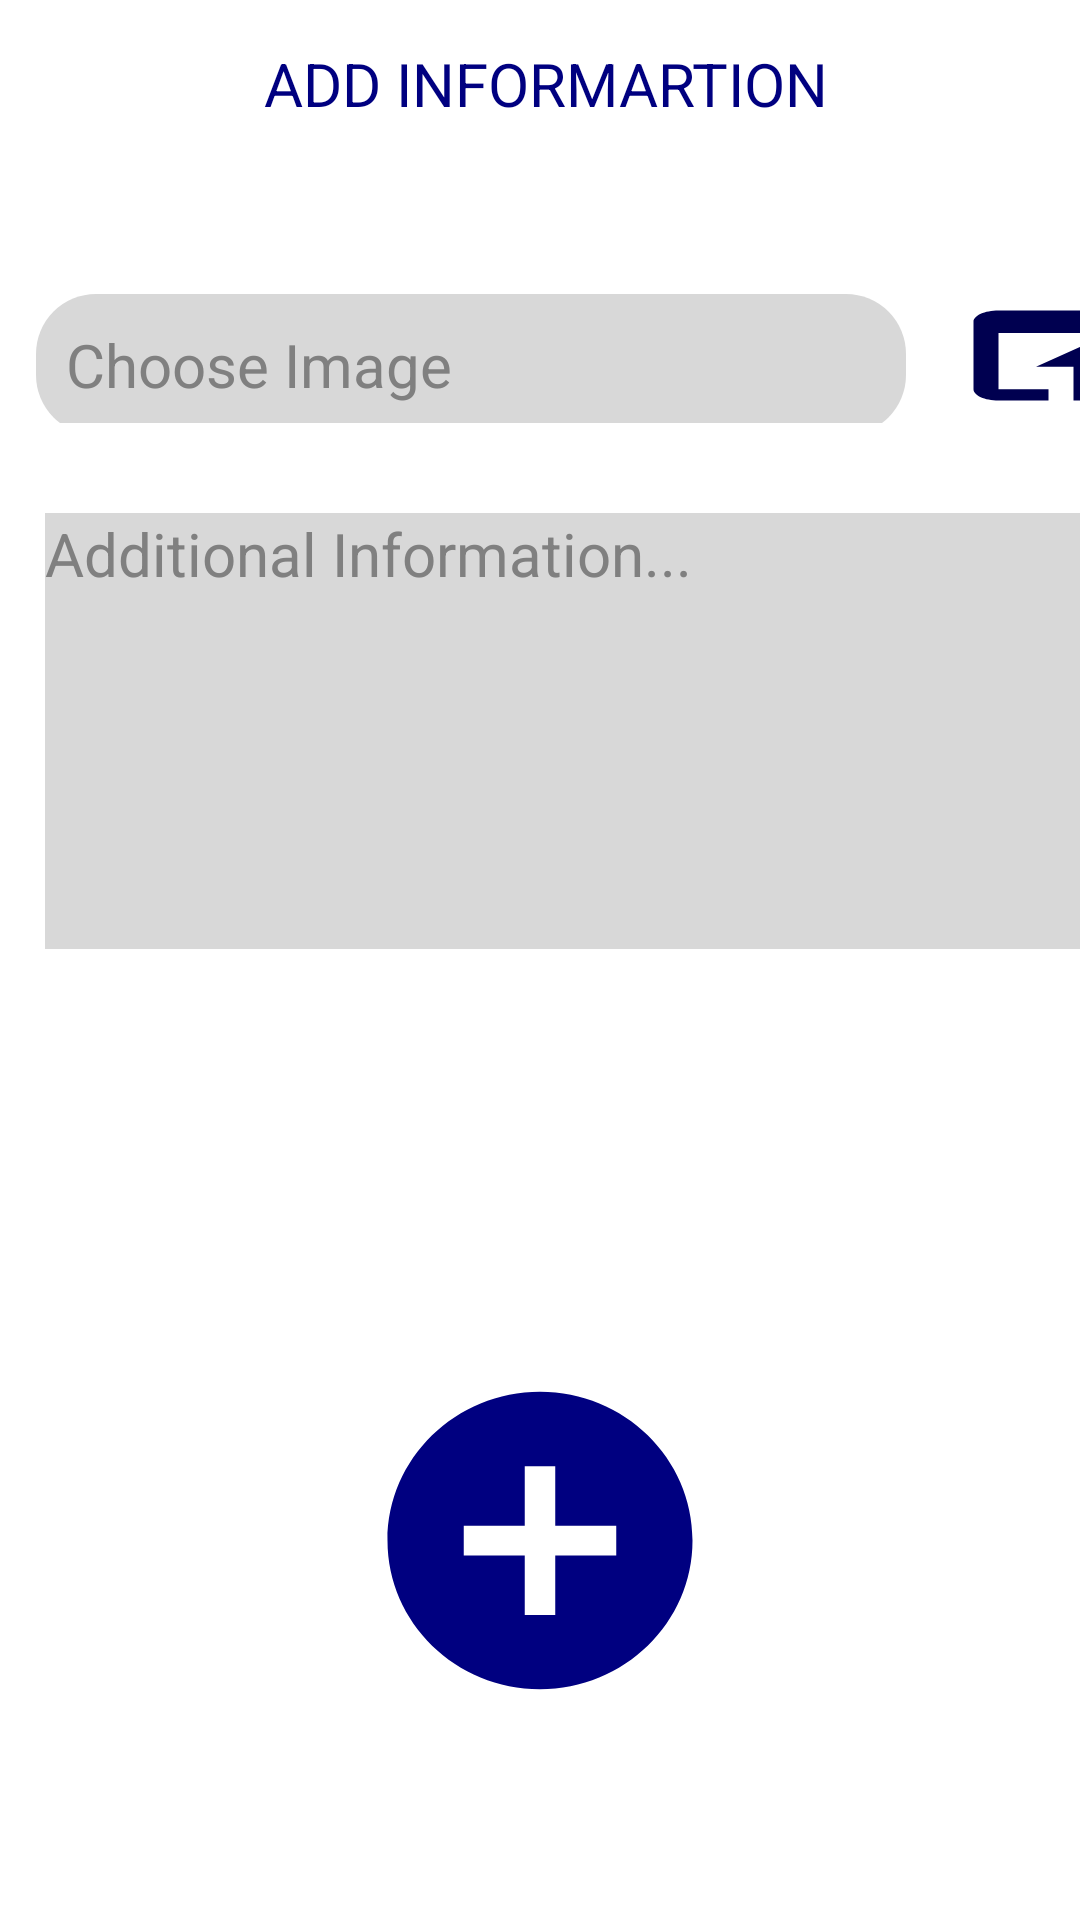

Icon bounding boxes for this 1080 x 1920 phone screenshot, format (x1, y1, x2, y2):
add circle: (387, 1391, 693, 1690)
